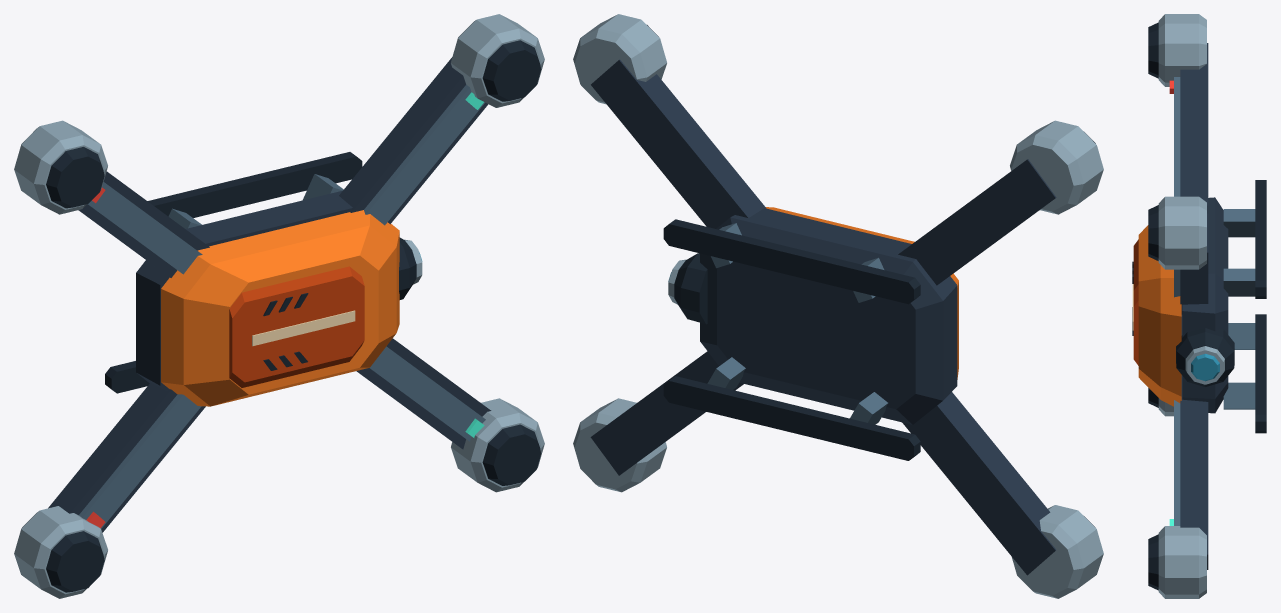
The model's file is airframe.obj.
The picture shows the model from 3 angles, left to right: view 1: azimuth 30°, elevation 25°; view 2: azimuth 150°, elevation 25°; view 3: azimuth 270°, elevation 25°; orthographic projection. The views are drawn at different scales.
Visible parts, largest first — view 1: beveled_canopy, battery_cover, flight_stack, arm_0, skid_1, arm_2, arm_spine_0, arm_spine_2, motor_can_3, motor_can_2, motor_can_0, arm_spine_1 (+11 smaller); view 2: flight_stack, arm_0, arm_2, arm_3, skid_1, skid_-1, arm_1, motor_can_3, motor_can_2, motor_can_0, motor_can_1, camera_mount (+3 smaller); view 3: beveled_canopy, flight_stack, arm_1, arm_3, motor_can_0, motor_can_1, motor_can_3, camera_mount, skid_-1, skid_1, arm_0, skid_strut_1_0.146 (+12 smaller).
Part boxes in pixels (box(x1,y1,x2,y2)): beveled_canopy: box(161, 210, 399, 406); battery_cover: box(229, 266, 364, 387); flight_stack: box(136, 190, 352, 391); arm_0: box(339, 57, 488, 224); skid_1: box(147, 152, 362, 217); arm_2: box(48, 383, 205, 532); arm_spine_0: box(364, 84, 485, 225); arm_spine_2: box(79, 394, 201, 528); motor_can_3: box(14, 120, 107, 214); motor_can_2: box(14, 506, 107, 598); motor_can_0: box(451, 14, 544, 107); arm_spine_1: box(370, 346, 485, 441); flight_stack: box(700, 208, 957, 424); arm_0: box(591, 59, 766, 228); arm_2: box(902, 392, 1055, 575); arm_3: box(898, 159, 1056, 285); skid_1: box(663, 219, 920, 304); skid_-1: box(663, 376, 920, 460); arm_1: box(590, 351, 743, 475); motor_can_3: box(1010, 120, 1103, 214); motor_can_2: box(1012, 505, 1103, 598); motor_can_0: box(573, 14, 666, 104); motor_can_1: box(573, 398, 666, 492); camera_mount: box(674, 253, 707, 324); beveled_canopy: box(1138, 225, 1181, 406); flight_stack: box(1182, 197, 1228, 413); arm_1: box(1180, 375, 1208, 569); arm_3: box(1180, 43, 1208, 205); motor_can_0: box(1158, 196, 1206, 269); motor_can_1: box(1158, 526, 1206, 598); motor_can_3: box(1158, 14, 1206, 86); camera_mount: box(1176, 328, 1234, 386); skid_-1: box(1255, 314, 1266, 433); skid_1: box(1255, 180, 1266, 298); arm_0: box(1180, 213, 1208, 314); skid_strut_1_0.146: box(1223, 268, 1255, 296).
Size of the model in its own units: 1.03 by 0.8827 by 0.274.
